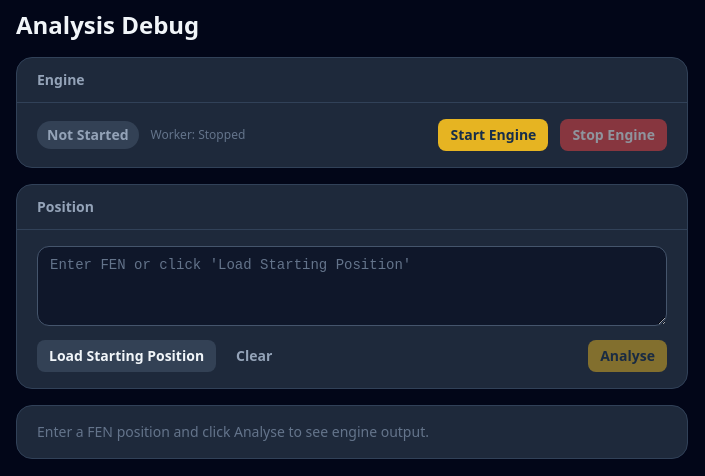
AnalysisPage › loads starting position FEN into textarea
The width and height of the screenshot is (705, 476).
Click the button "Load Starting Position".
click(127, 356)  # box [37, 340, 216, 372]
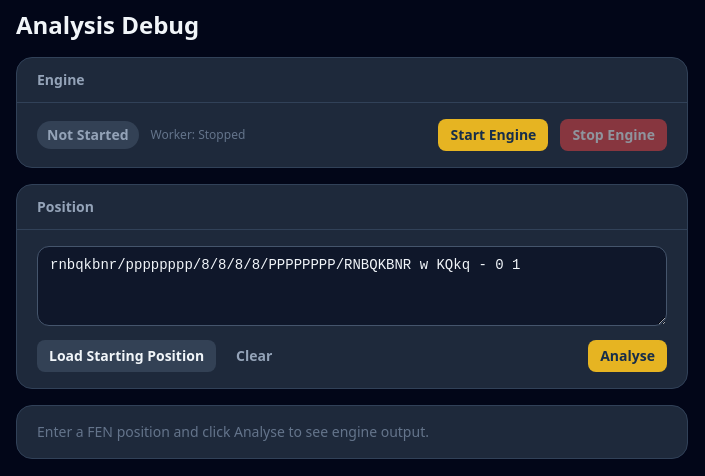
Check: the text box with placeholder "Enter FEN or click 'Load Starting Position'" holds "rnbqkbnr/pppppppp/8/8/8/8/PPPPPPPP/RNBQKBNR w KQkq - 0 1", box [37, 246, 667, 326]
